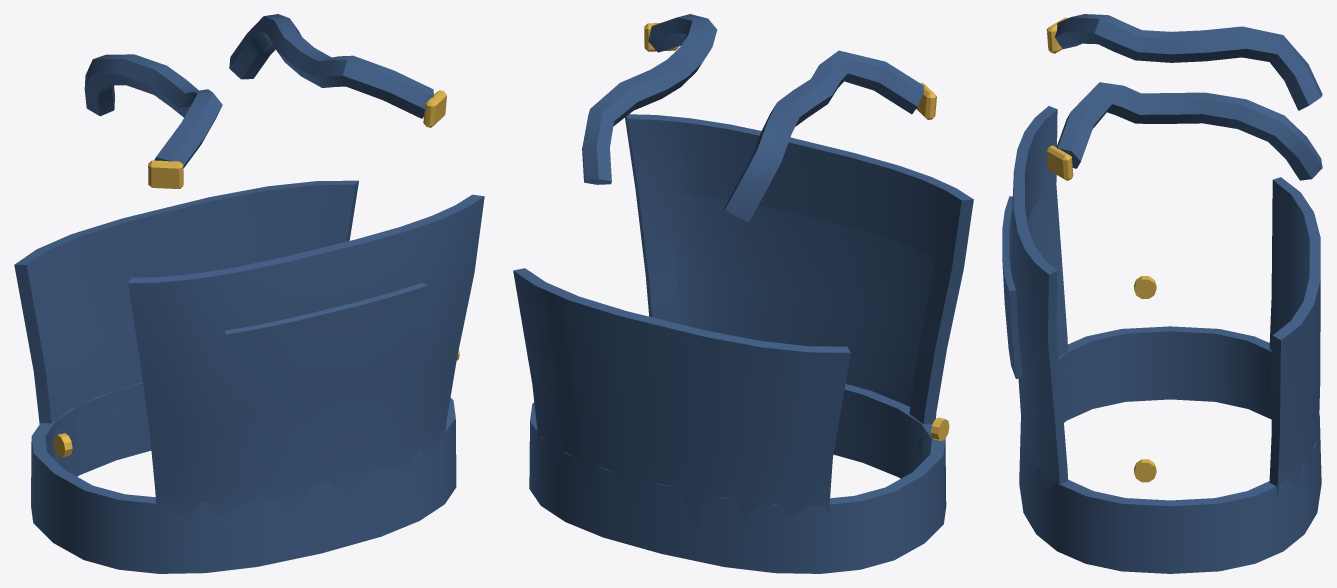
Rendered from Char_Top_Overalls.fbx.
3 renders of one model, left to right at view 1: azimuth 30°, elevation 25°; view 2: azimuth 150°, elevation 25°; view 3: azimuth 270°, elevation 25°, orthographic. The views are drawn at different scales.
Visible parts, largest first — view 1: Overalls, Buckles; view 2: Overalls, Buckles; view 3: Overalls, Buckles.
Boxes of the visible parts, bbox=[...] form: Overalls: bbox=[14, 14, 484, 573]; Buckles: bbox=[53, 90, 459, 457]; Overalls: bbox=[513, 14, 973, 573]; Buckles: bbox=[644, 23, 949, 441]; Overalls: bbox=[1002, 14, 1322, 573]; Buckles: bbox=[1046, 17, 1156, 482].
Size of the model in its own units: 156 by 169 by 113.
